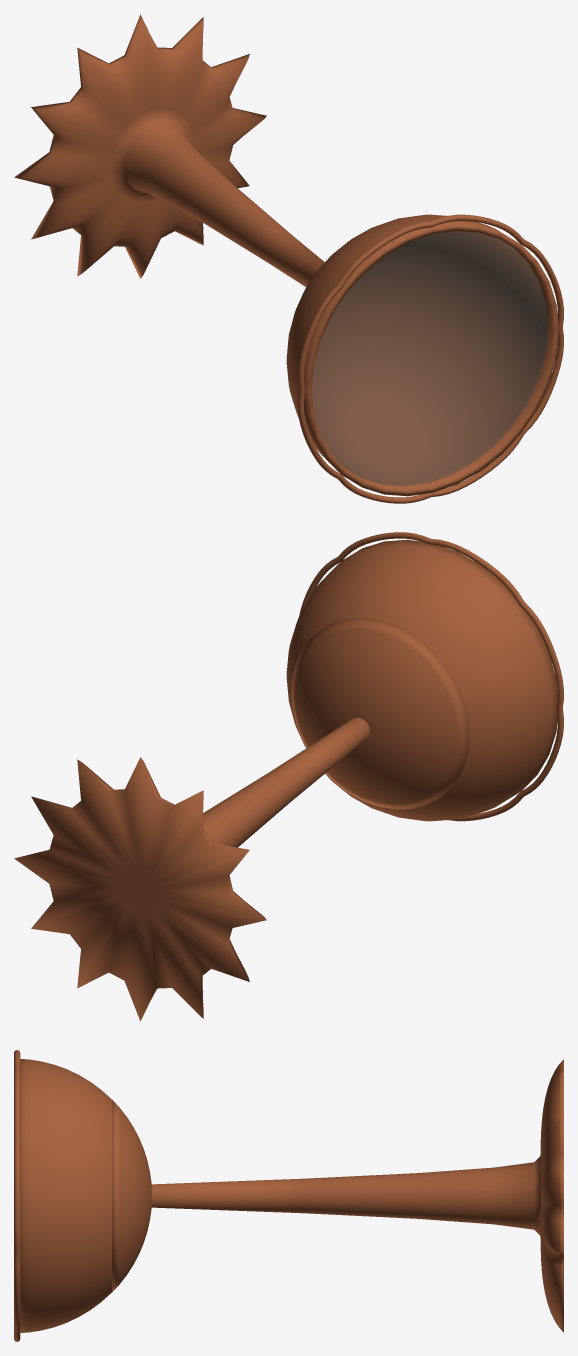
File: copper-laver.glb
3 renders of one model, top to bottom at view 1: azimuth 30°, elevation 25°; view 2: azimuth 150°, elevation 25°; view 3: azimuth 270°, elevation 25°, orthographic. The views are drawn at different scales.
Visible parts, largest first — view 1: Sphere.003, LaverWater; view 2: Sphere.003; view 3: Sphere.003.
Part boxes in pixels (left/top/right/bottom): Sphere.003: left=14, top=14, right=563, bottom=503; LaverWater: left=312, top=231, right=548, bottom=486; Sphere.003: left=14, top=532, right=563, bottom=1021; Sphere.003: left=14, top=1050, right=563, bottom=1341.
Bounding box in the file's own units: 1.05 × 1.05 × 2.
